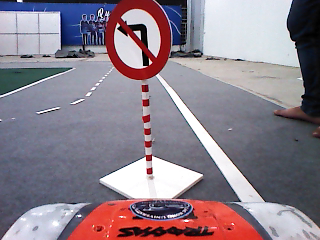ban: (104, 1, 173, 80)
